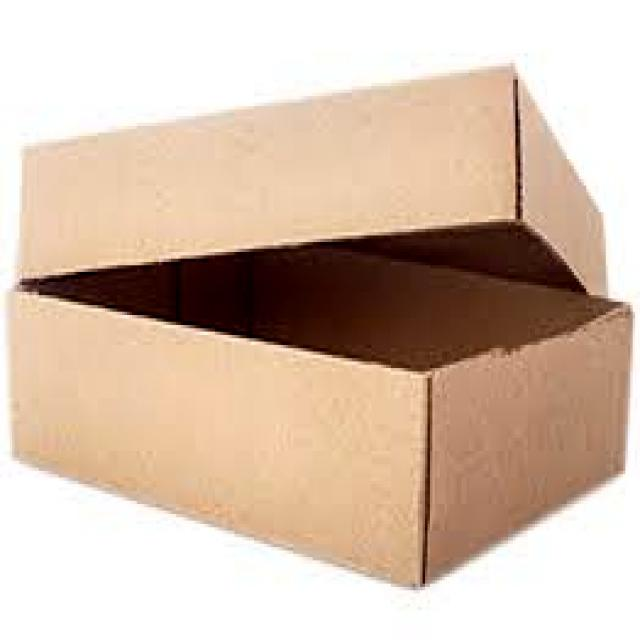Cardboard: (0, 57, 633, 601)
